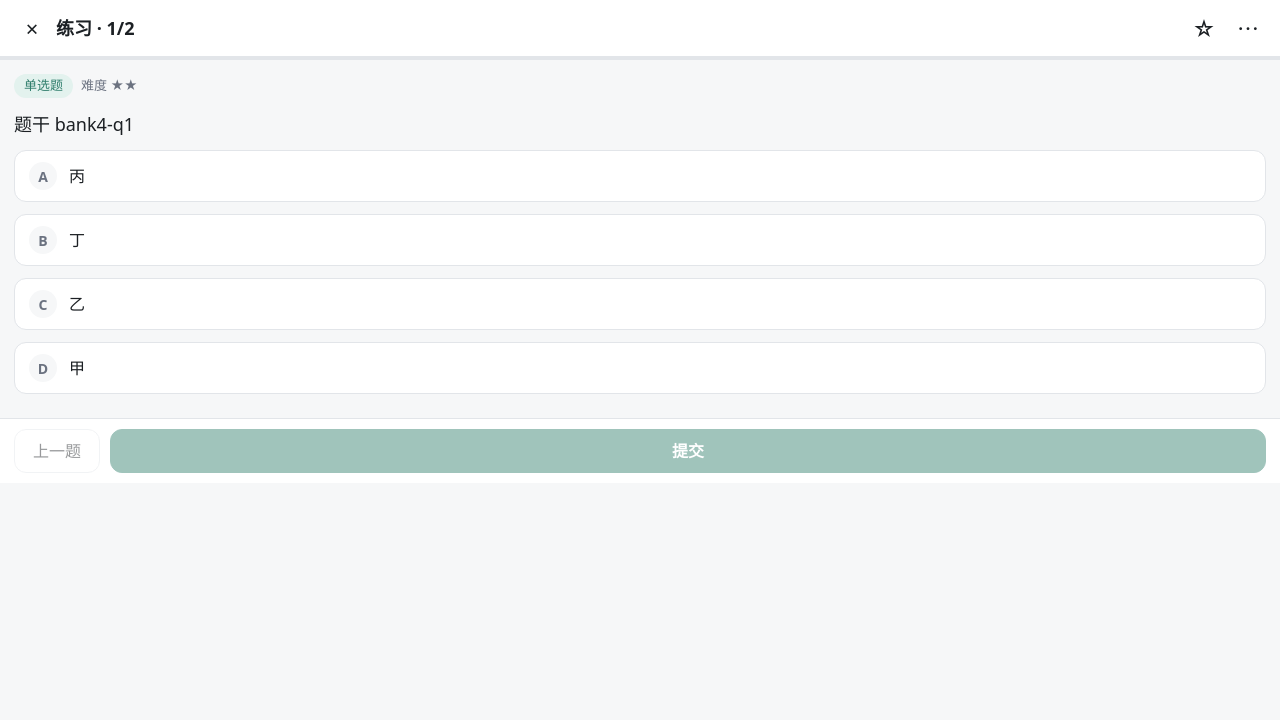
Test: QuizView › asks why a question is reported and queues the report with that reason
Step 1. Click the button named "更多" → [1248, 28], box [1228,8,1268,48]
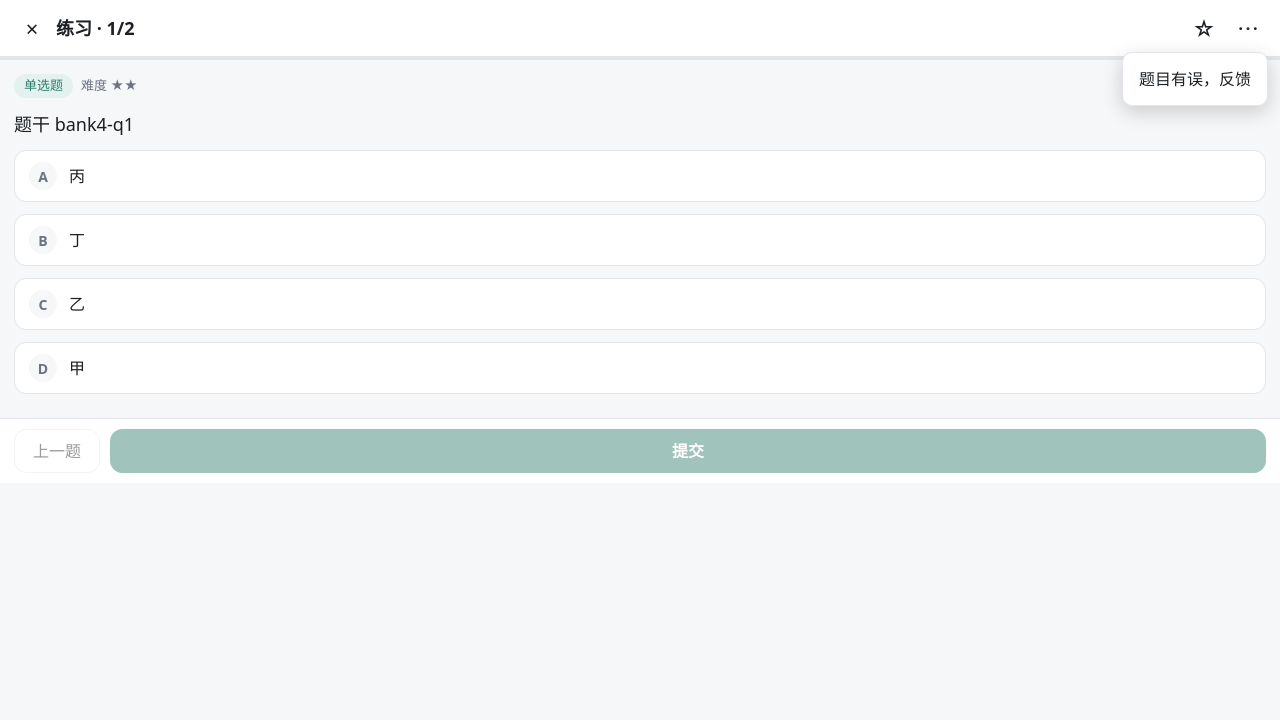
Step 2. Click the text "题目有误，反馈" → [1195, 79], box [1139,68,1251,90]
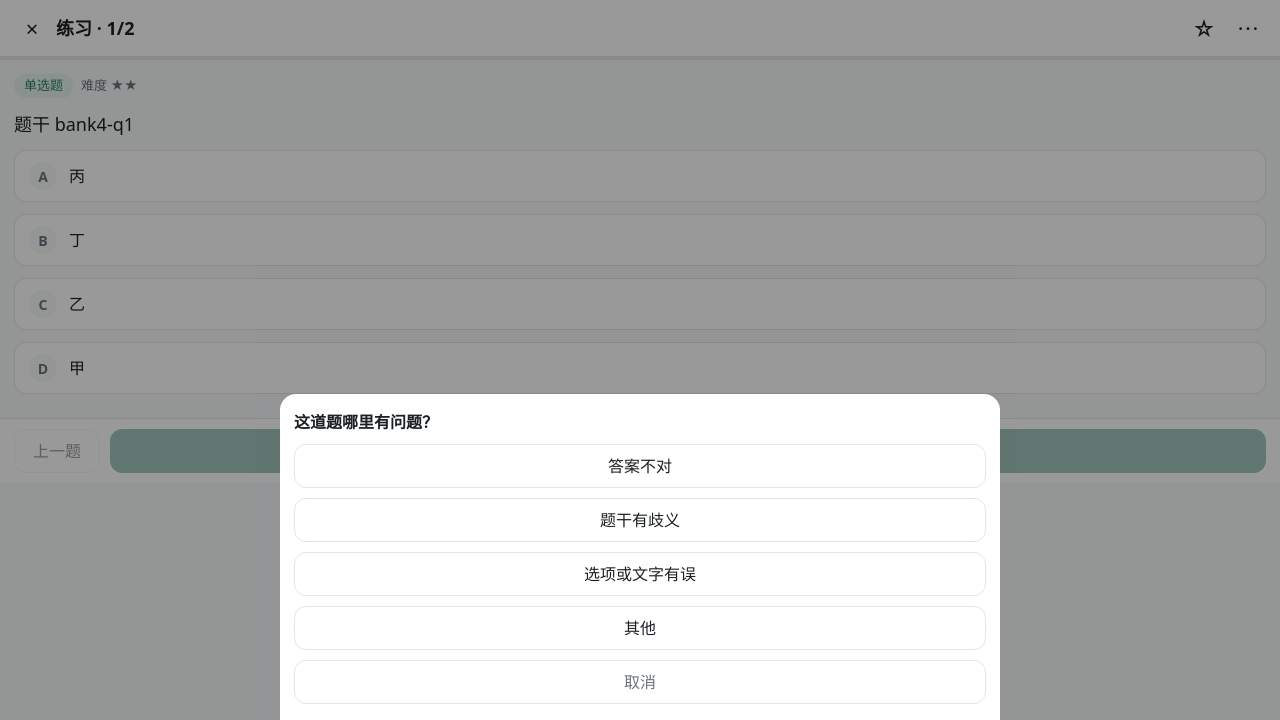
Result: the text "这道题哪里有问题" is shown at [294,411,438,433]
Result: the text "答案不对" is shown at [294,444,986,488]
Result: the text "题干有歧义" is shown
Step 3. Click the button "题干有歧义" → [640, 520], box [294,498,986,542]
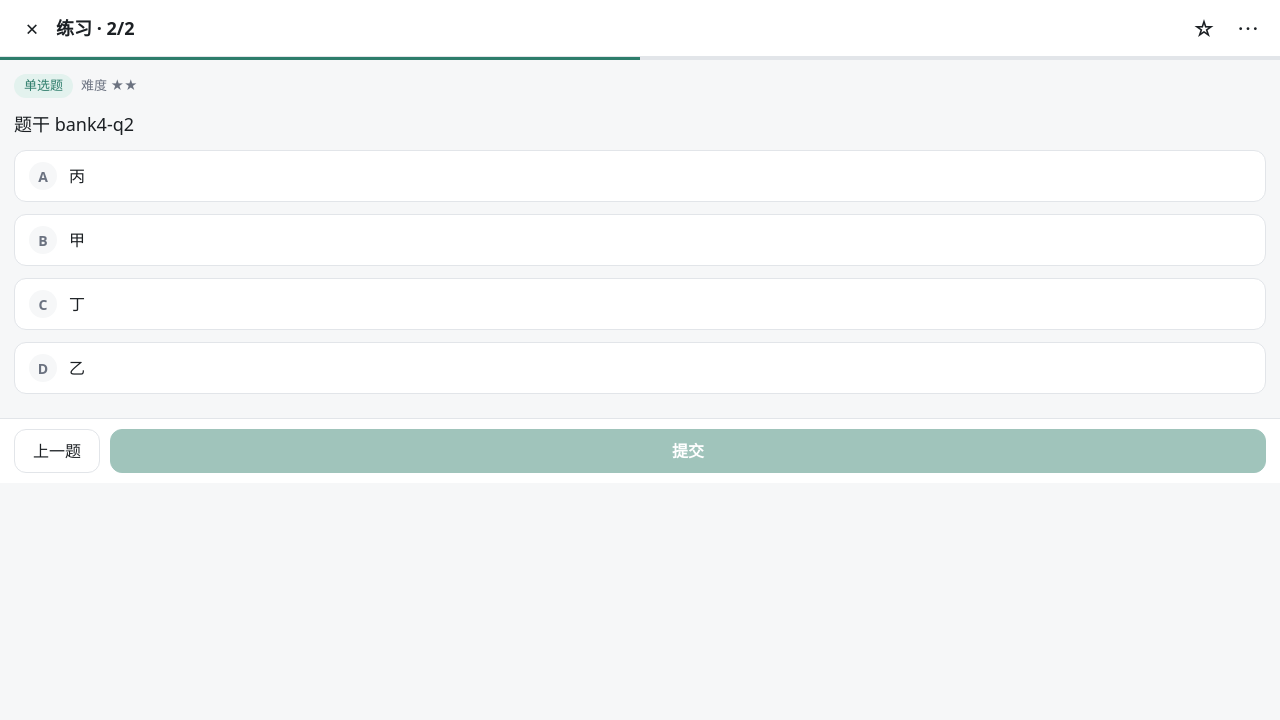
Result: the text "这道题哪里有问题" is gone
